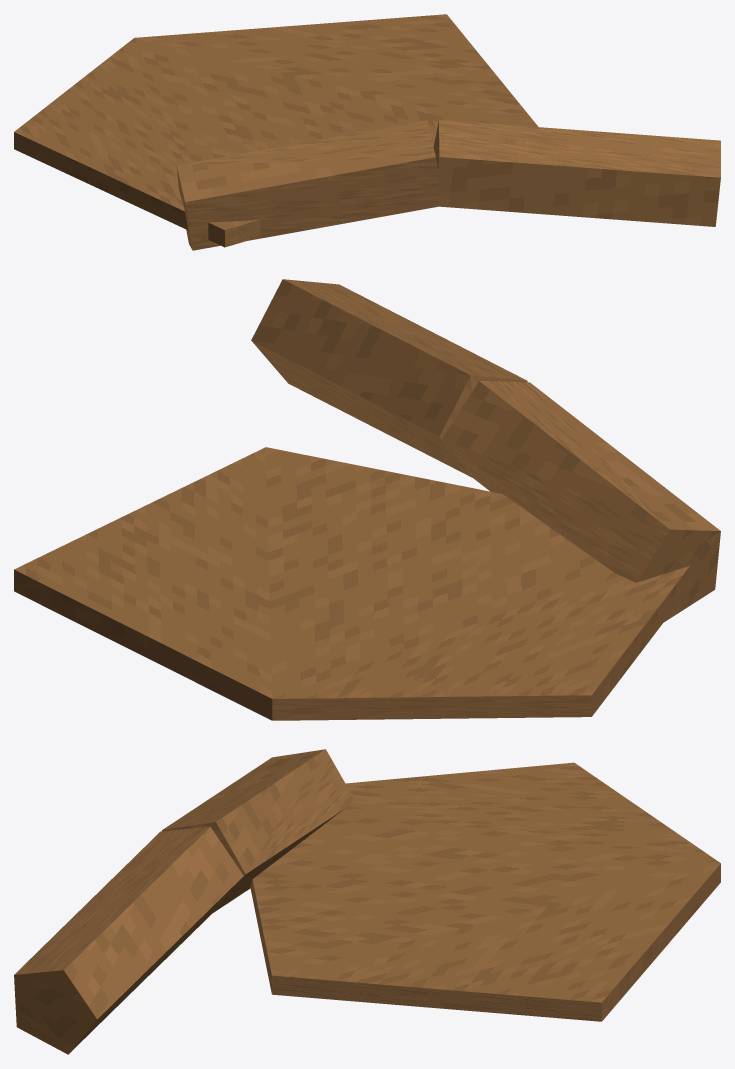
File: scarf_fur_long_headwrap.glb
3 views of the same model, one above another, from view 1: azimuth 30°, elevation 25°; view 2: azimuth 150°, elevation 25°; view 3: azimuth 270°, elevation 25° (orthographic). The views are drawn at different scales.
Visible parts, largest first — view 1: block_triangular wrap, block_tied ends 1, block_tied ends 0; view 2: block_triangular wrap, block_tied ends 0, block_tied ends 1; view 3: block_triangular wrap, block_tied ends 1, block_tied ends 0.
Part boxes in pixels (box(x1,y1,x2,y2)): block_triangular wrap: box(14, 14, 538, 247); block_tied ends 1: box(433, 119, 720, 226); block_tied ends 0: box(176, 120, 438, 250); block_triangular wrap: box(14, 447, 691, 720); block_tied ends 0: box(442, 381, 720, 621); block_tied ends 1: box(251, 279, 527, 477); block_triangular wrap: box(250, 762, 720, 1021); block_tied ends 1: box(14, 826, 243, 1054); block_tied ends 0: box(162, 749, 353, 913).
Bounding box in the file's own units: 0.2916 × 0.0641 × 0.3326.
1 material, 1 textured.
